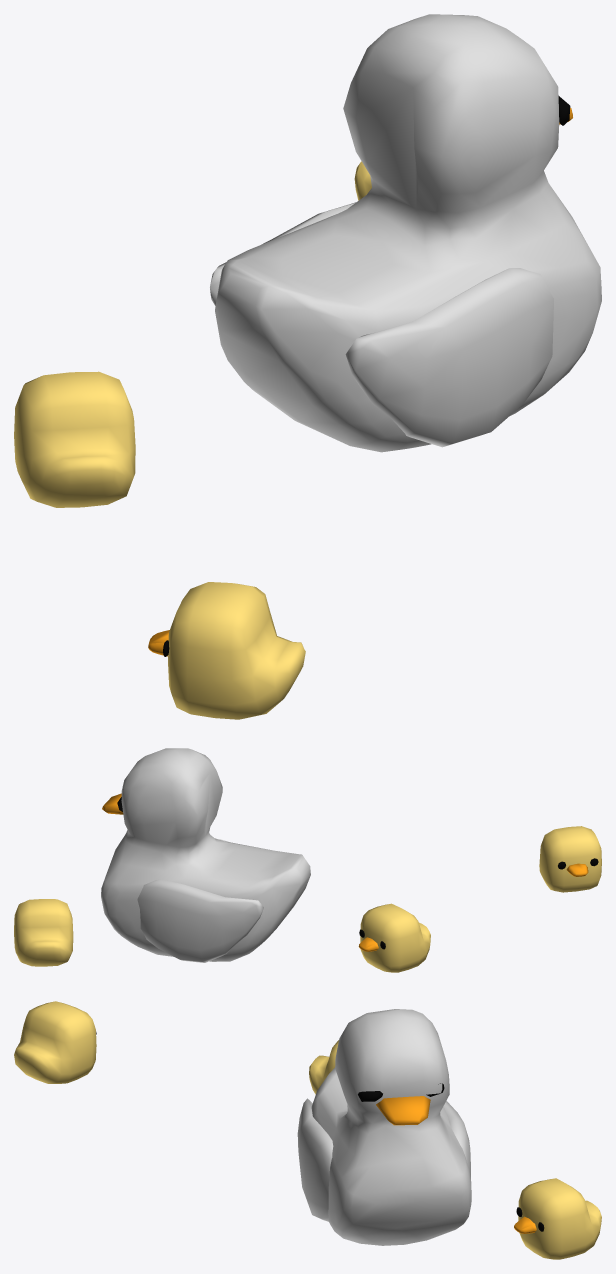
Rendered from ducks.glb.
3 views of the same model, one above another, from view 1: azimuth 30°, elevation 25°; view 2: azimuth 150°, elevation 25°; view 3: azimuth 270°, elevation 25° (orthographic). The views are drawn at different scales.
Visible parts, largest first — view 1: duck, chick_1, chick_2; view 2: duck, chick_2, chick_3, chick_1; view 3: duck, chick_1, chick_3, chick_2.
Part boxes in pixels (bbox=[...]): duck: bbox=[210, 14, 601, 452]; chick_1: bbox=[148, 582, 305, 719]; chick_2: bbox=[14, 371, 135, 507]; duck: bbox=[101, 748, 310, 962]; chick_2: bbox=[358, 903, 430, 972]; chick_3: bbox=[14, 899, 73, 966]; chick_1: bbox=[539, 826, 601, 892]; duck: bbox=[297, 1009, 471, 1245]; chick_1: bbox=[14, 1001, 96, 1083]; chick_3: bbox=[514, 1178, 601, 1259]; chick_2: bbox=[309, 1040, 338, 1094].
Bounding box in the file's own units: 1.58 × 0.7811 × 1.83.
Materials: 5 (1 with a texture image).
